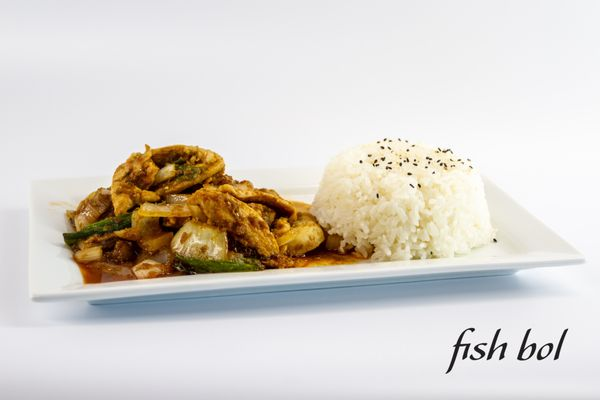sushi: (309, 135, 498, 261)
